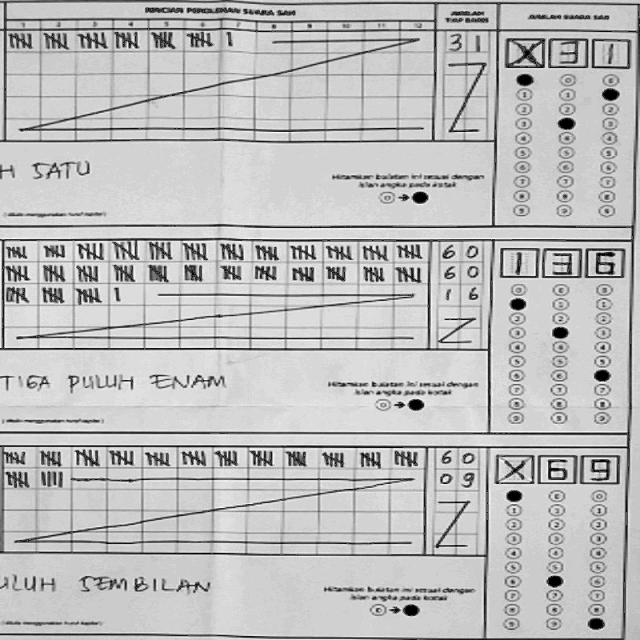Suara: (494, 238, 626, 280), (499, 30, 633, 70), (492, 449, 622, 485)
